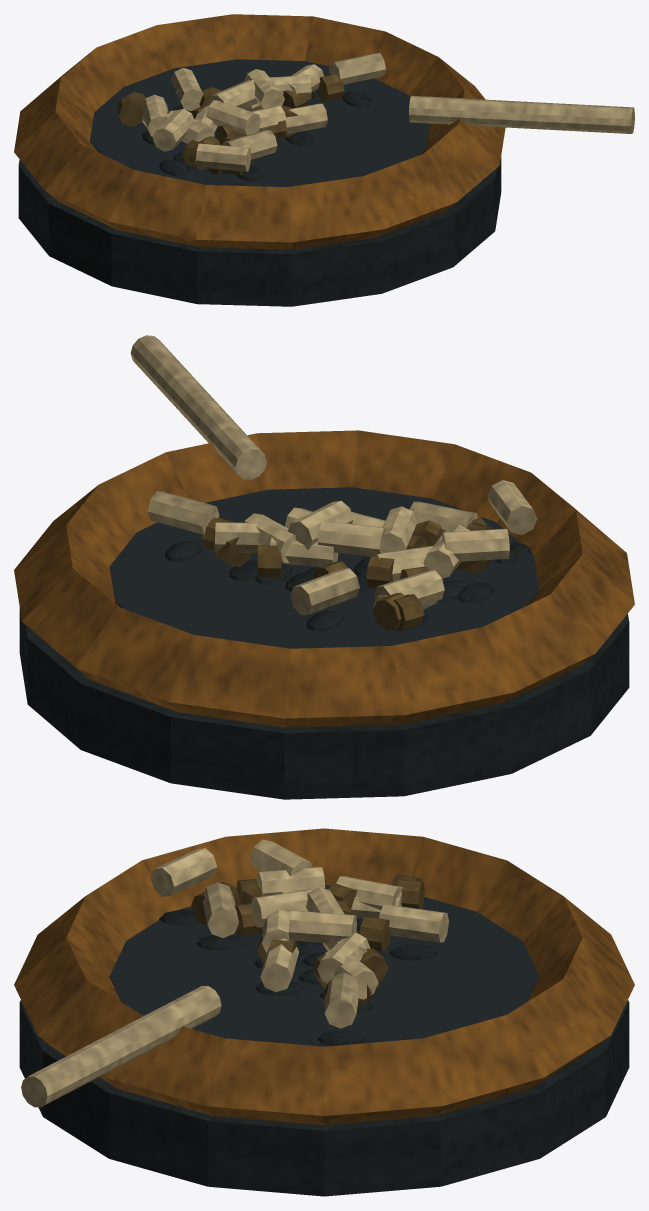
Rendered from full_ashtray.glb.
The picture shows the model from 3 angles, top to bottom: view 1: azimuth 30°, elevation 25°; view 2: azimuth 150°, elevation 25°; view 3: azimuth 270°, elevation 25°; orthographic projection. The views are drawn at different scales.
Parts seen in each view (by area): view 1: full_ashtray; view 2: full_ashtray; view 3: full_ashtray.
Part boxes in pixels (bbox=[...]): full_ashtray: bbox=[14, 14, 634, 306]; full_ashtray: bbox=[14, 335, 634, 799]; full_ashtray: bbox=[14, 828, 634, 1196].
Bounding box in the file's own units: 0.2386 × 0.0596 × 0.214.
5 materials, 4 textured.
